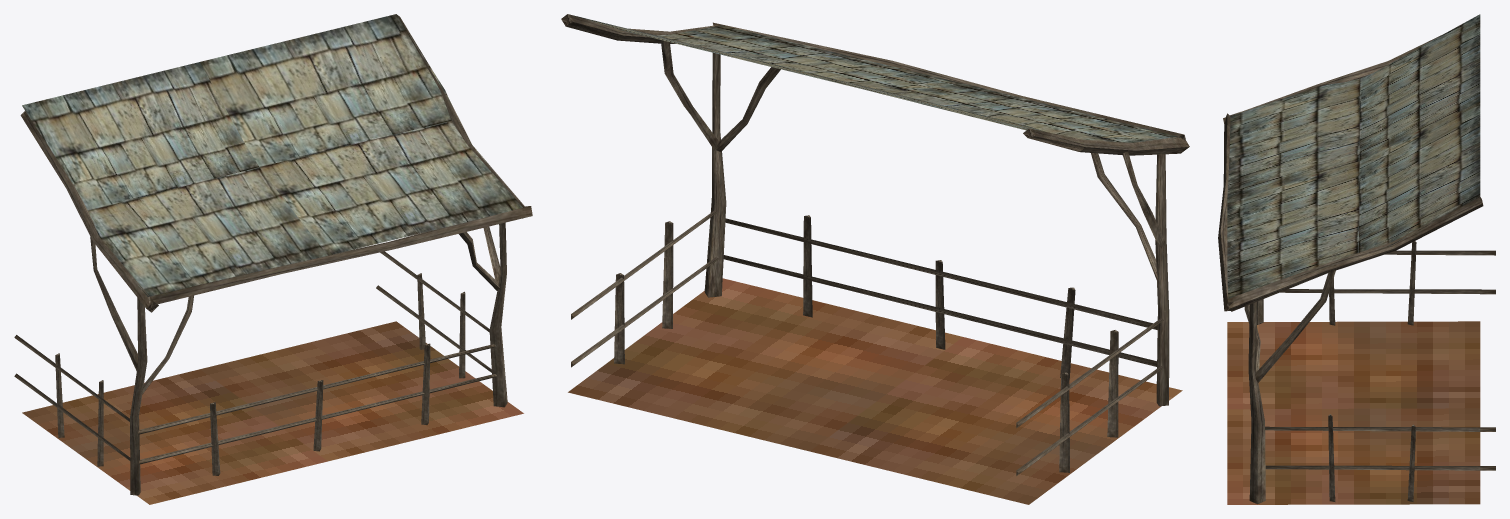
File: pig_pen_b.fbx
3 renders of one model, left to right at view 1: azimuth 30°, elevation 25°; view 2: azimuth 150°, elevation 25°; view 3: azimuth 270°, elevation 25°, orthographic. The views are drawn at different scales.
Visible parts, largest first — view 1: nurbsToPoly2, footprint, nurbsToPoly1, pCylinder5, pCylinder6, pCylinder1, pCylinder3, pCylinder16, pCylinder15, pCylinder4, pCylinder10, pCylinder12 (+1 smaller); view 2: footprint, nurbsToPoly2, nurbsToPoly1, pCylinder1, pCylinder3, pCylinder15, pCylinder16, pCylinder6, pCylinder5, pCylinder4, pCylinder11, pCylinder21 (+13 smaller); view 3: footprint, nurbsToPoly2, nurbsToPoly1, pCylinder4, pCylinder1, pCylinder5, pCylinder18, pCylinder11, pCylinder19, pCylinder22, pCylinder6, pCylinder23 (+3 smaller).
Boxes of the visible parts, x1,y1,x2,y2 form: nurbsToPoly2: (22, 14, 522, 296); footprint: (22, 321, 523, 504); nurbsToPoly1: (28, 16, 507, 296); pCylinder5: (148, 206, 532, 305); pCylinder6: (20, 111, 158, 312); pCylinder1: (489, 222, 507, 407); pCylinder3: (130, 298, 147, 495); pCylinder16: (139, 374, 496, 464); pCylinder15: (138, 344, 495, 434); pCylinder4: (396, 14, 524, 207); pCylinder10: (90, 230, 137, 371); pCylinder12: (421, 343, 430, 424); footprint: (568, 278, 1182, 504); nurbsToPoly2: (570, 14, 1181, 142); nurbsToPoly1: (605, 23, 1179, 142); pCylinder1: (704, 53, 726, 297); pCylinder3: (1155, 154, 1169, 406); pCylinder15: (725, 218, 1157, 329); pCylinder16: (723, 255, 1156, 366); pCylinder6: (1023, 128, 1189, 155); pCylinder5: (713, 22, 1185, 140); pCylinder4: (561, 14, 721, 43); pCylinder11: (661, 33, 719, 150); pCylinder21: (1107, 330, 1118, 437); footprint: (1227, 321, 1480, 504); nurbsToPoly2: (1227, 14, 1480, 298); nurbsToPoly1: (1227, 17, 1480, 289); pCylinder4: (1228, 197, 1483, 311); pCylinder1: (1248, 301, 1265, 504); pCylinder5: (1218, 113, 1232, 311); pCylinder18: (1265, 465, 1495, 470); pCylinder11: (1255, 270, 1335, 382); pCylinder19: (1265, 426, 1495, 431); pCylinder22: (1280, 289, 1495, 294); pCylinder6: (1223, 33, 1445, 123); pCylinder23: (1385, 250, 1495, 255).
Size of the model in its own units: 2949 by 2215 by 1813.
2 materials, 2 textured.
